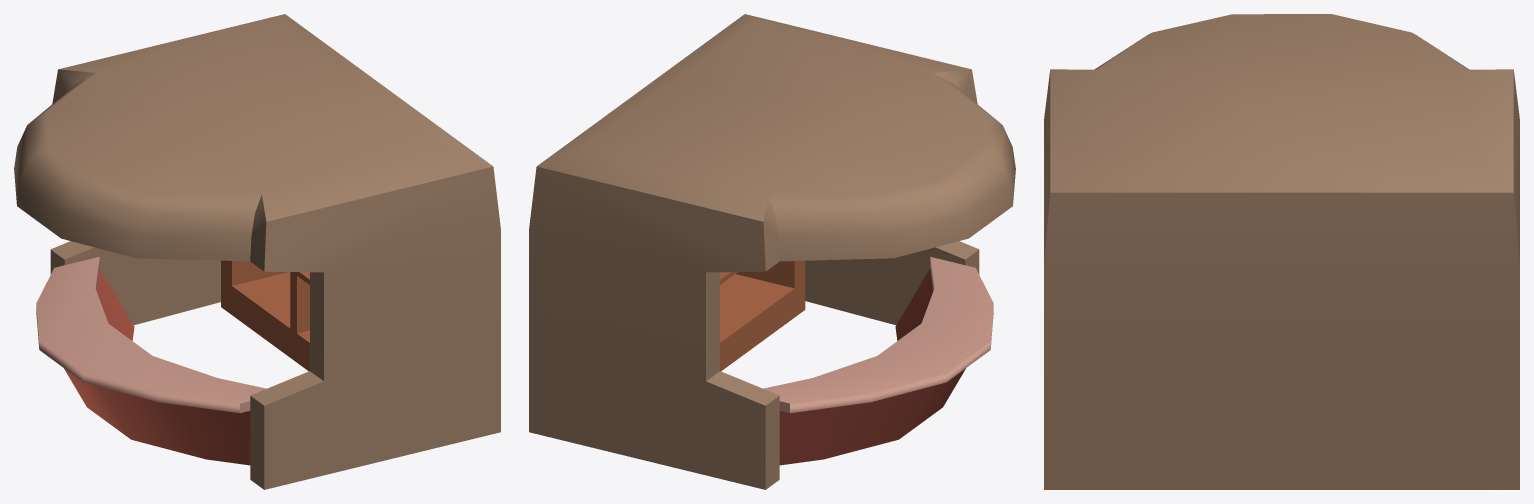
File: Foodstand_04.fbx
3 views of the same model, side by side, from view 1: azimuth 30°, elevation 25°; view 2: azimuth 150°, elevation 25°; view 3: azimuth 270°, elevation 25° (orthographic). The views are drawn at different scales.
Visible parts, largest first — view 1: Foodstand_04; view 2: Foodstand_04; view 3: Foodstand_04.
Part boxes in pixels (x1,y1,x2,y2): Foodstand_04: [14, 14, 500, 489]; Foodstand_04: [529, 14, 1015, 489]; Foodstand_04: [1044, 14, 1519, 489].
Bounding box in the file's own units: 13.53 × 10.19 × 14.12.
Materials: 1 (1 with a texture image).
